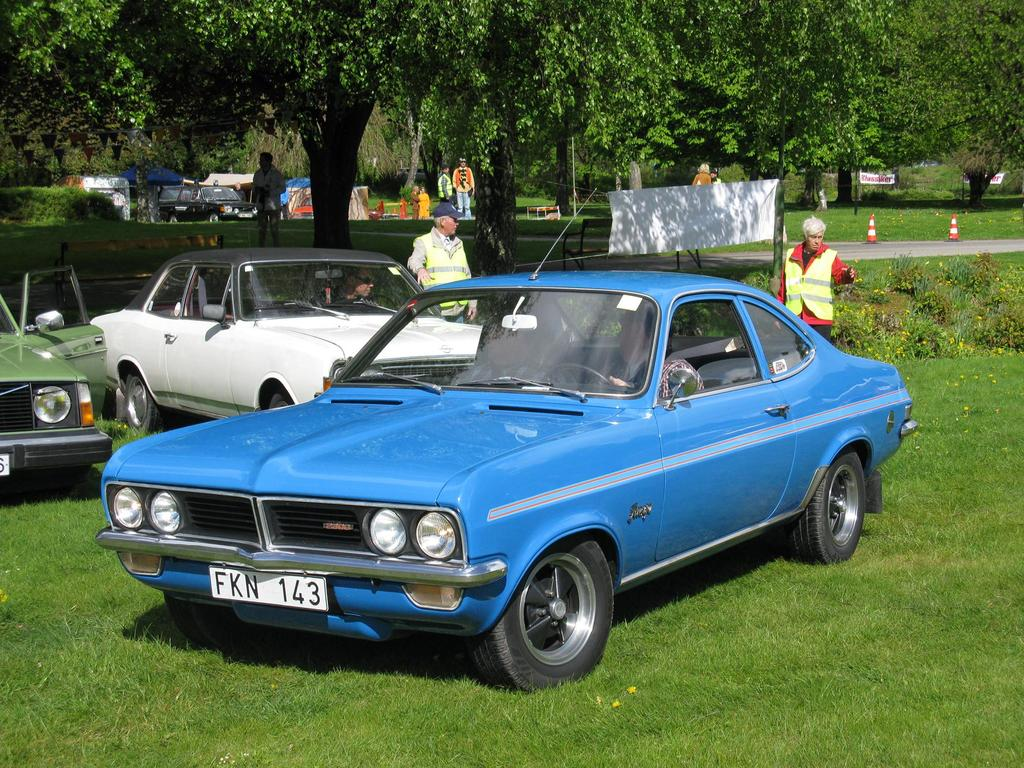Car: (97, 188, 914, 694), (84, 250, 484, 439), (0, 263, 112, 500)
